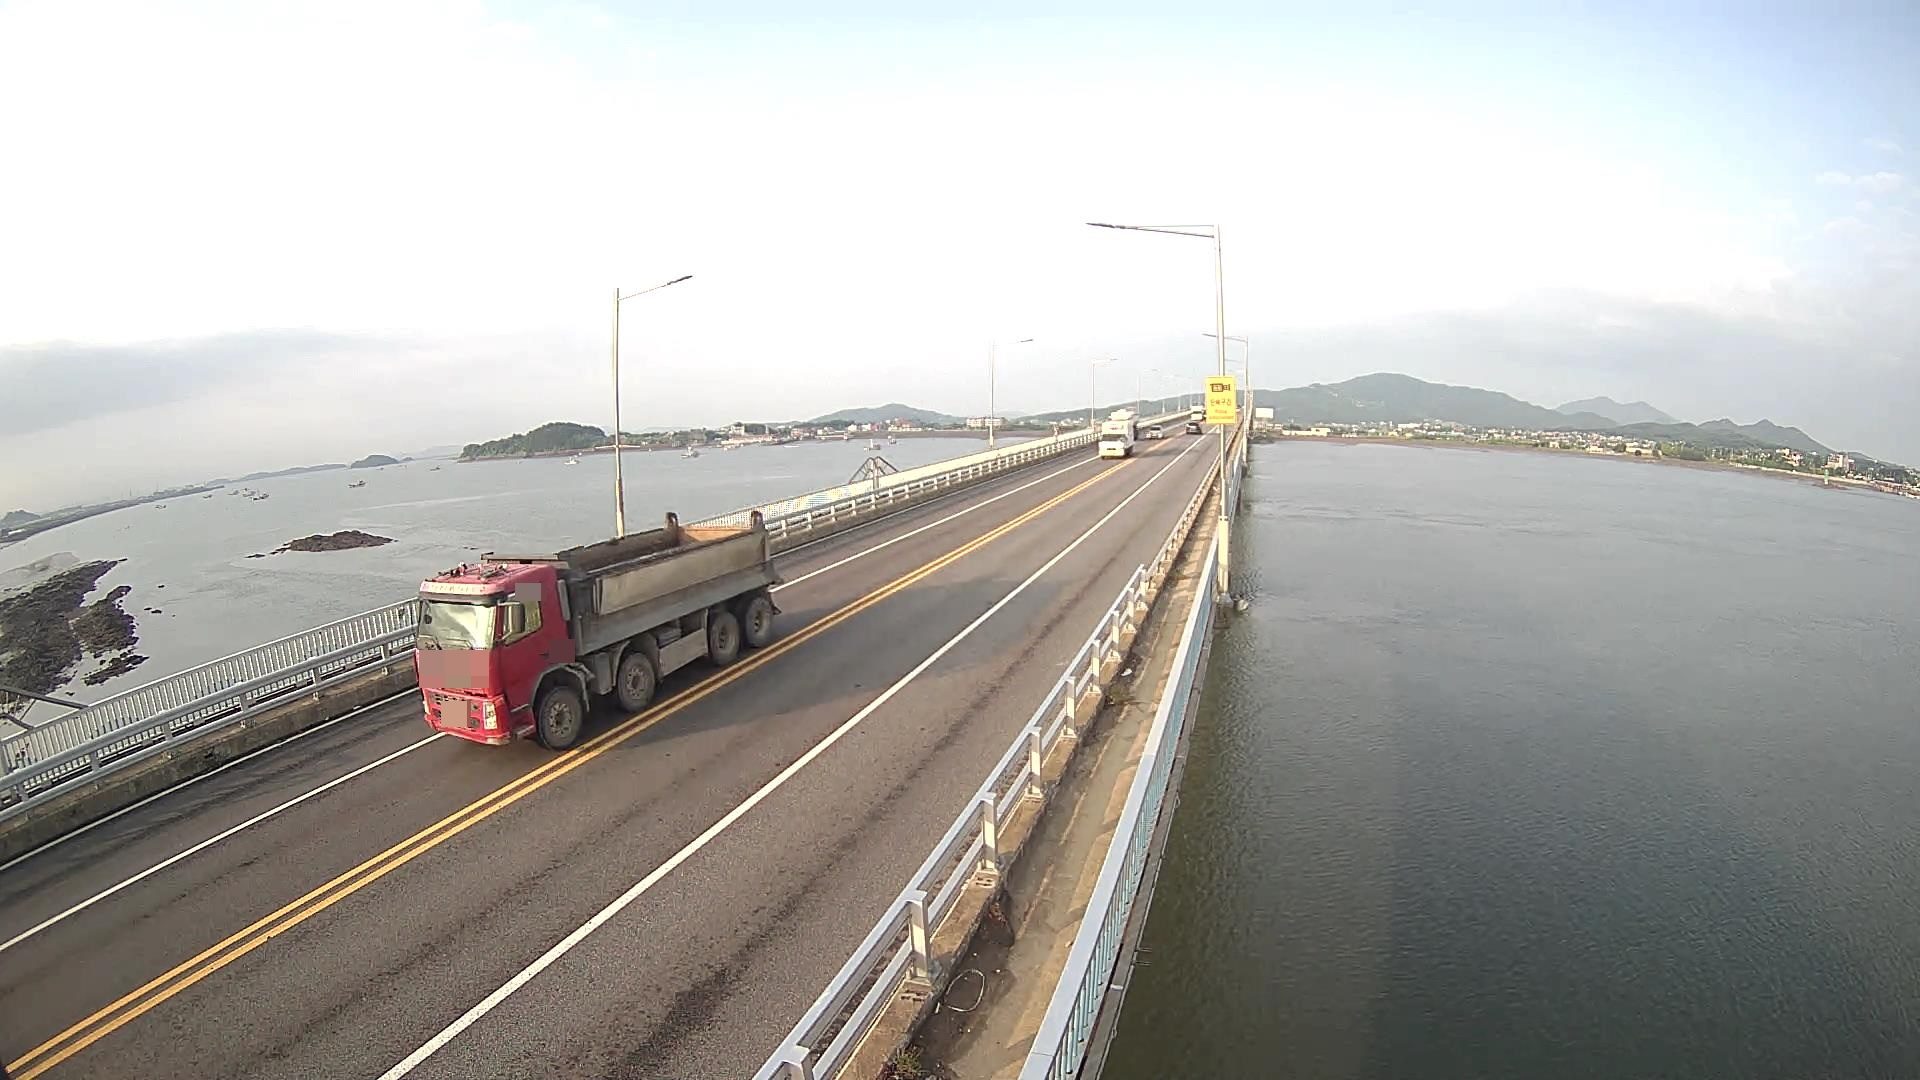정상차량: (398, 511, 784, 750)
